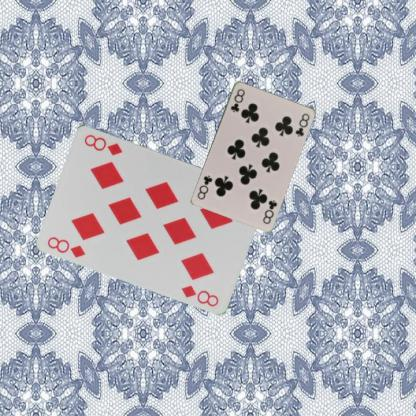8c: (260, 197, 278, 225), (228, 86, 246, 113)
8d: (45, 233, 87, 259)
